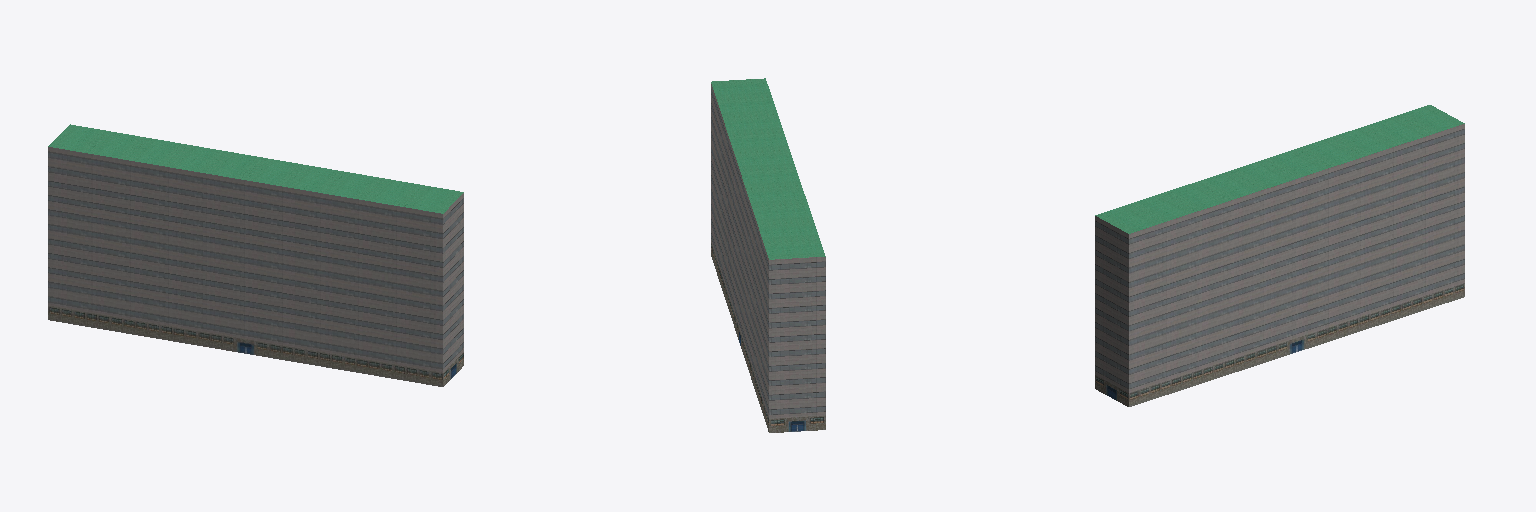
3 renders of one model, left to right at view 1: azimuth 30°, elevation 25°; view 2: azimuth 150°, elevation 25°; view 3: azimuth 270°, elevation 25°, orthographic.
Parts seen in each view (by area): view 1: BuildingMaster_[number redacted]_0, BuildingMaster_[number redacted]_1; view 2: BuildingMaster_[number redacted]_0, BuildingMaster_[number redacted]_1; view 3: BuildingMaster_[number redacted]_0, BuildingMaster_[number redacted]_1.
Boxes of the visible parts, box(x1,y1,x2,y2) form: BuildingMaster_[number redacted]_0: box(48, 147, 463, 386); BuildingMaster_[number redacted]_1: box(48, 124, 463, 213); BuildingMaster_[number redacted]_0: box(711, 84, 825, 432); BuildingMaster_[number redacted]_1: box(711, 78, 825, 259); BuildingMaster_[number redacted]_0: box(1095, 124, 1464, 406); BuildingMaster_[number redacted]_1: box(1095, 105, 1464, 233).
Bounding box in the file's own units: 67.25 × 42 × 81.23.
Materials: 2 (2 with a texture image).